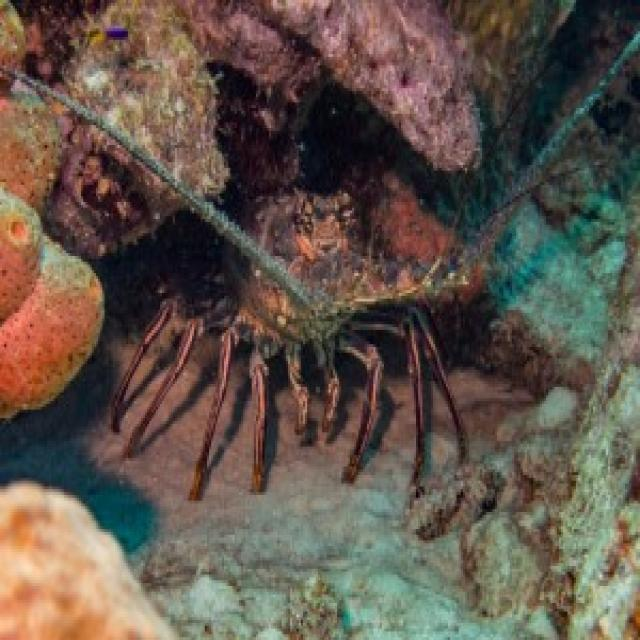lobsters: (19, 0, 541, 501)
